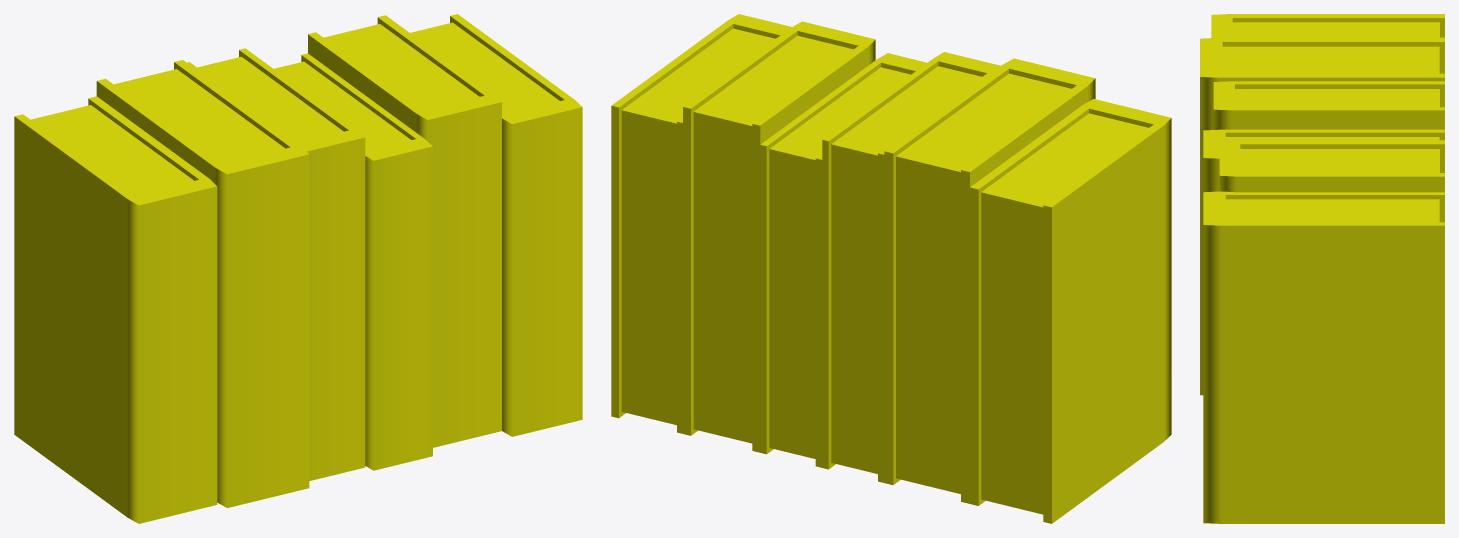
File: BookSet_Medium.fbx
The picture shows the model from 3 angles, left to right: view 1: azimuth 30°, elevation 25°; view 2: azimuth 150°, elevation 25°; view 3: azimuth 270°, elevation 25°; orthographic projection. The views are drawn at different scales.
Visible parts, largest first — view 1: BookSet_01; view 2: BookSet_01; view 3: BookSet_01.
Part boxes in pixels (x1,y1,x2,y2): BookSet_01: [14, 14, 582, 523]; BookSet_01: [611, 14, 1171, 523]; BookSet_01: [1200, 14, 1444, 523].
Bounding box in the file's own units: 11.22 × 8.08 × 5.63.
